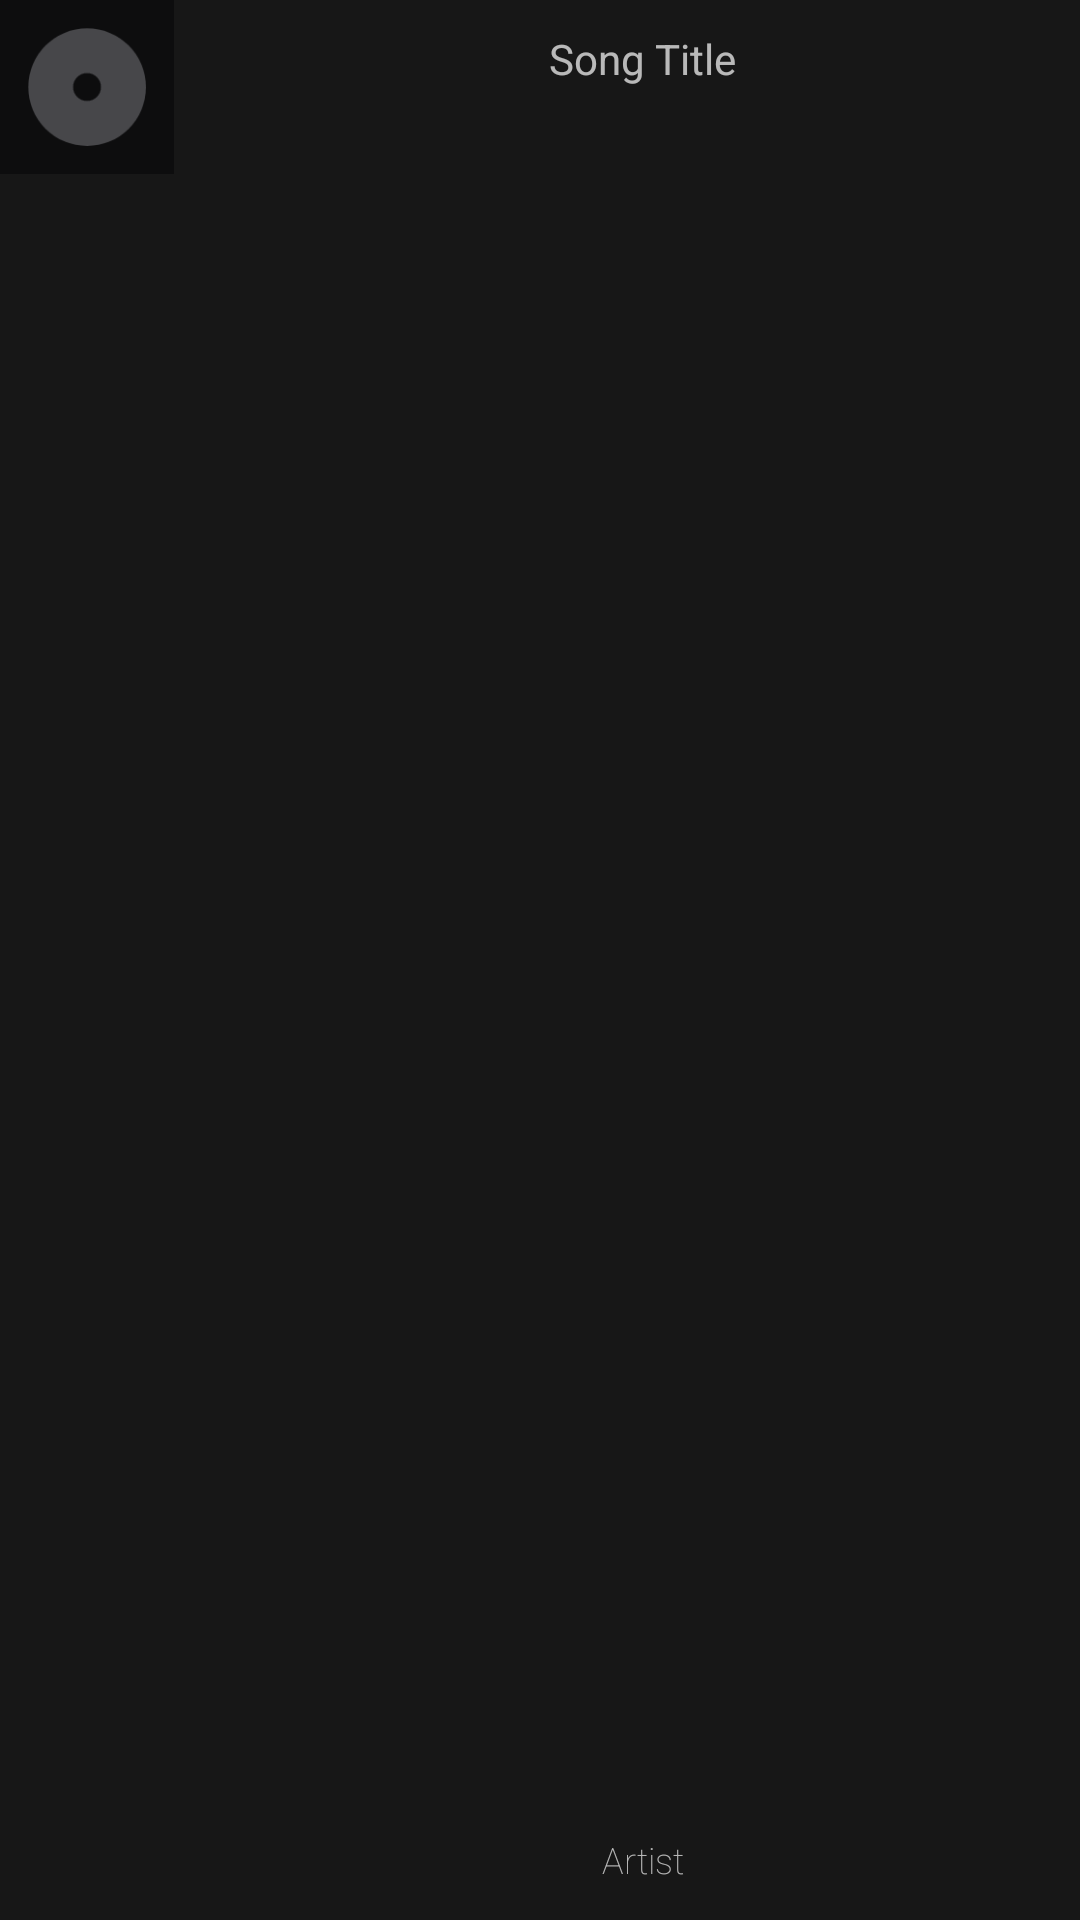

Screen size 1080×1920. Icon name, then its center in pixels as [x,y]:
album blank: [87,87]
